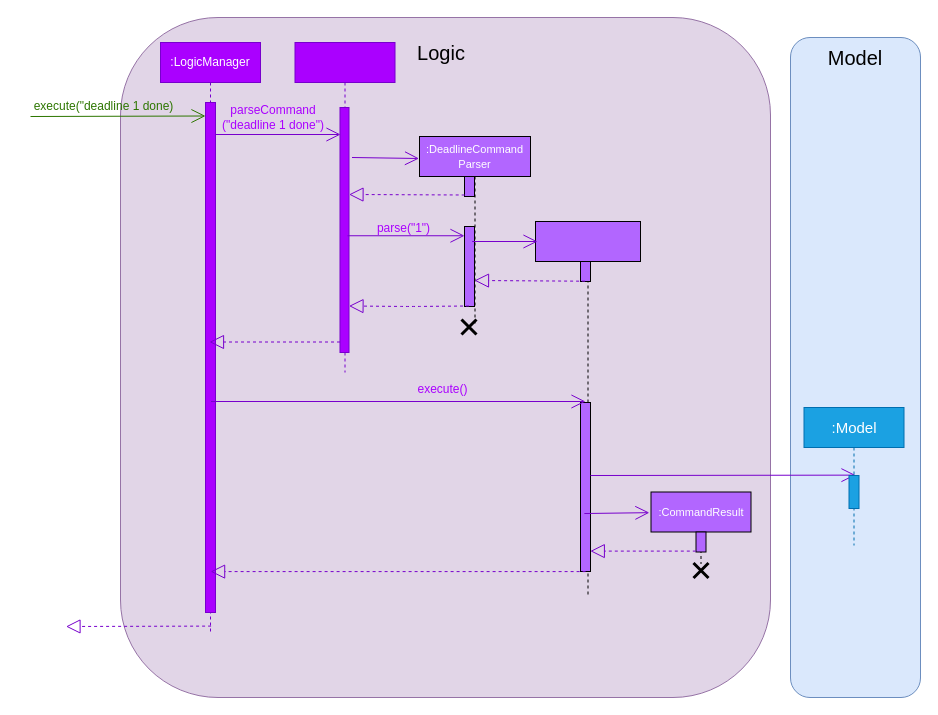
Image size: 938x715. Some labels were removed from this diagram. The shapes that lost their labels are listed below. From the top down, each one's box as (x1, y1, x2, y2) in pixels, then its label:
(294, 42, 395, 372): :PdfBook Parser
(534, 220, 640, 598): :DeadlineCommand
